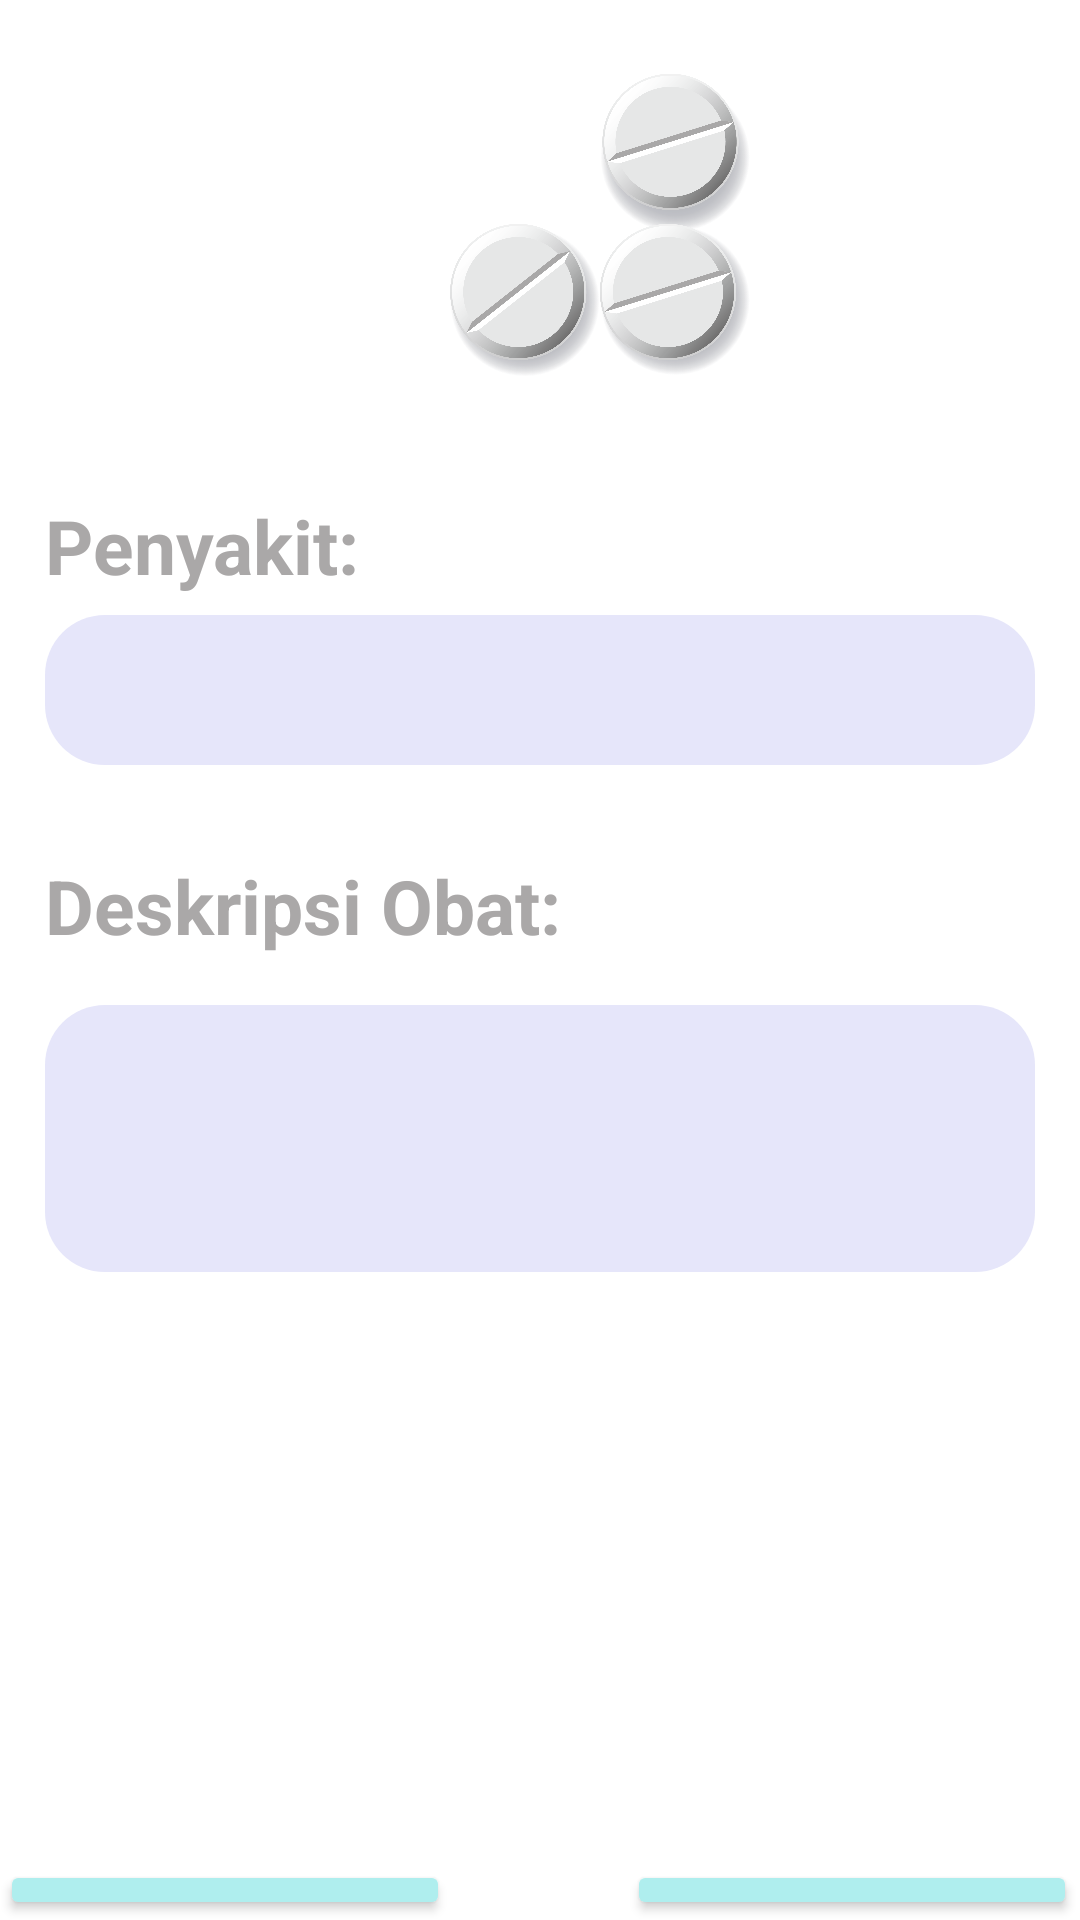

Point at icon controls on the screen. Image size 1080x1920, points as point (x, y).
medicine: point (597, 227)
